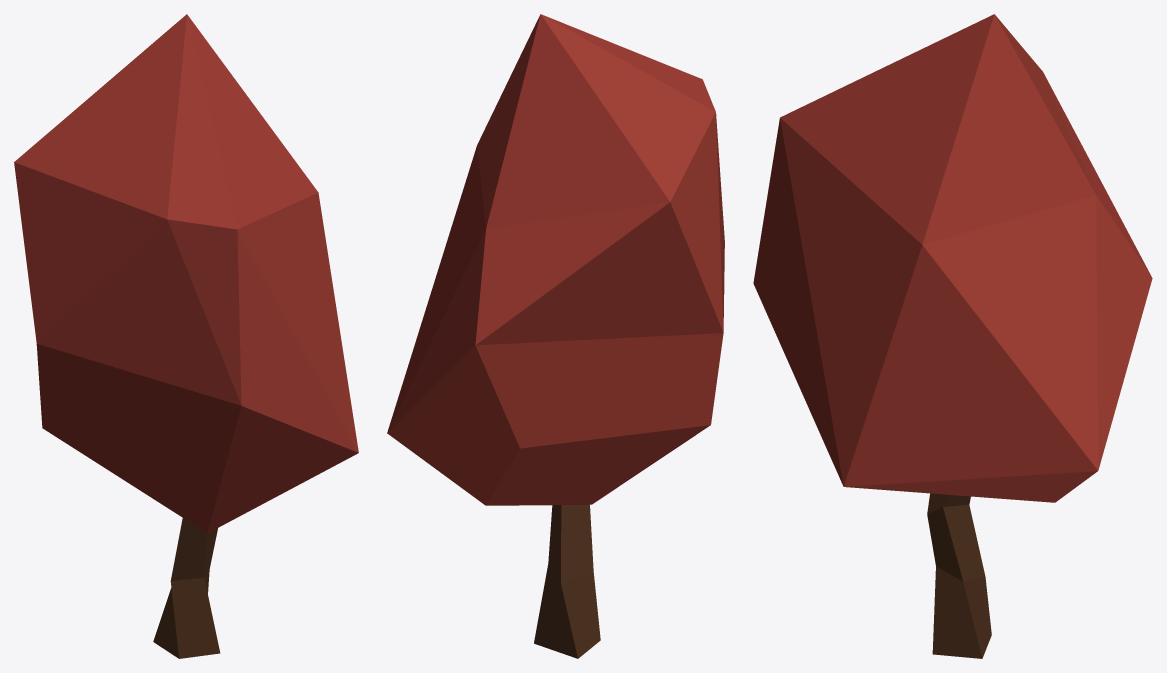
File: Tree_51_Red.fbx
The picture shows the model from 3 angles, left to right: view 1: azimuth 30°, elevation 25°; view 2: azimuth 150°, elevation 25°; view 3: azimuth 270°, elevation 25°; orthographic projection. The views are drawn at different scales.
Parts seen in each view (by area): view 1: Tree_51_Red_Part_2, Tree_51_Red_Part_1; view 2: Tree_51_Red_Part_2, Tree_51_Red_Part_1; view 3: Tree_51_Red_Part_2, Tree_51_Red_Part_1.
Boxes of the visible parts, bbox=[...] form: Tree_51_Red_Part_2: bbox=[14, 14, 358, 533]; Tree_51_Red_Part_1: bbox=[153, 518, 220, 658]; Tree_51_Red_Part_2: bbox=[387, 14, 724, 505]; Tree_51_Red_Part_1: bbox=[534, 504, 600, 658]; Tree_51_Red_Part_2: bbox=[753, 14, 1152, 502]; Tree_51_Red_Part_1: bbox=[927, 493, 991, 658].
Size of the model in its own units: 257 by 577 by 327.
